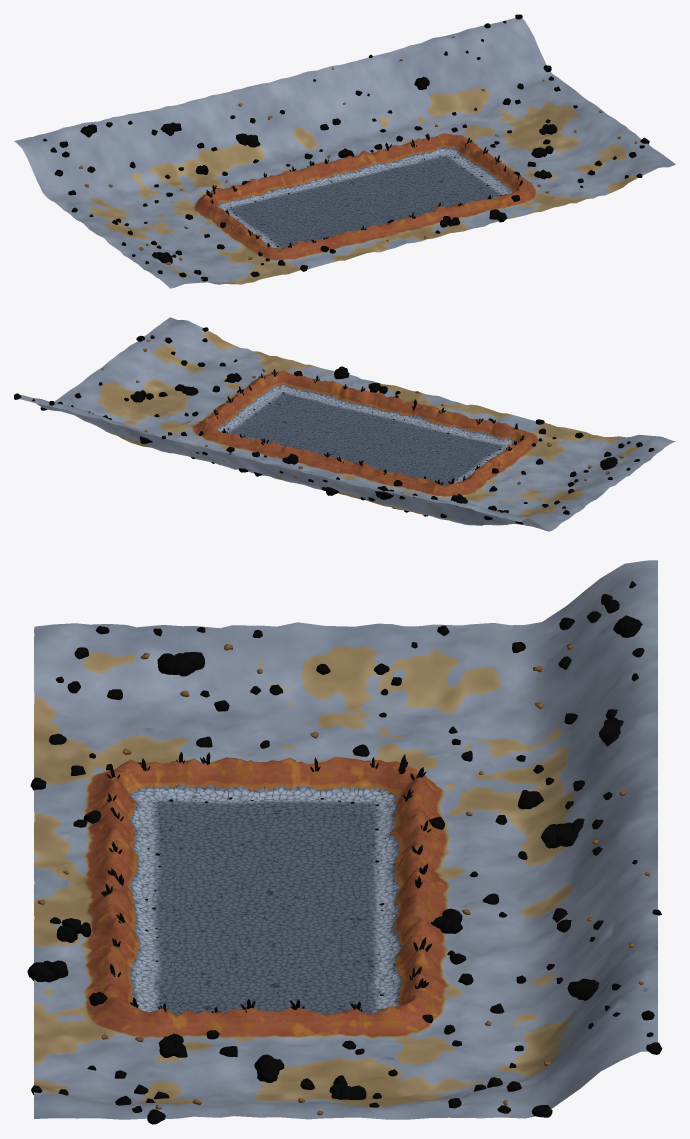
The model's file is surroundings_29x11.glb.
3 renders of one model, top to bottom at view 1: azimuth 30°, elevation 25°; view 2: azimuth 150°, elevation 25°; view 3: azimuth 270°, elevation 25°, orthographic. The views are drawn at different scales.
Parts seen in each view (by area): view 1: ground, props; view 2: ground, props; view 3: ground, props.
Part boxes in pixels (<box>): ground: <box>14,18,675,288</box>; props: <box>43,14,649,282</box>; ground: <box>18,317,675,531</box>; props: <box>14,327,654,525</box>; ground: <box>34,560,657,1119</box>; props: <box>27,581,662,1124</box>.
Bounding box in the file's own units: 73.47 × 7.86 × 39.69.
Materials: 2 (2 with a texture image).
